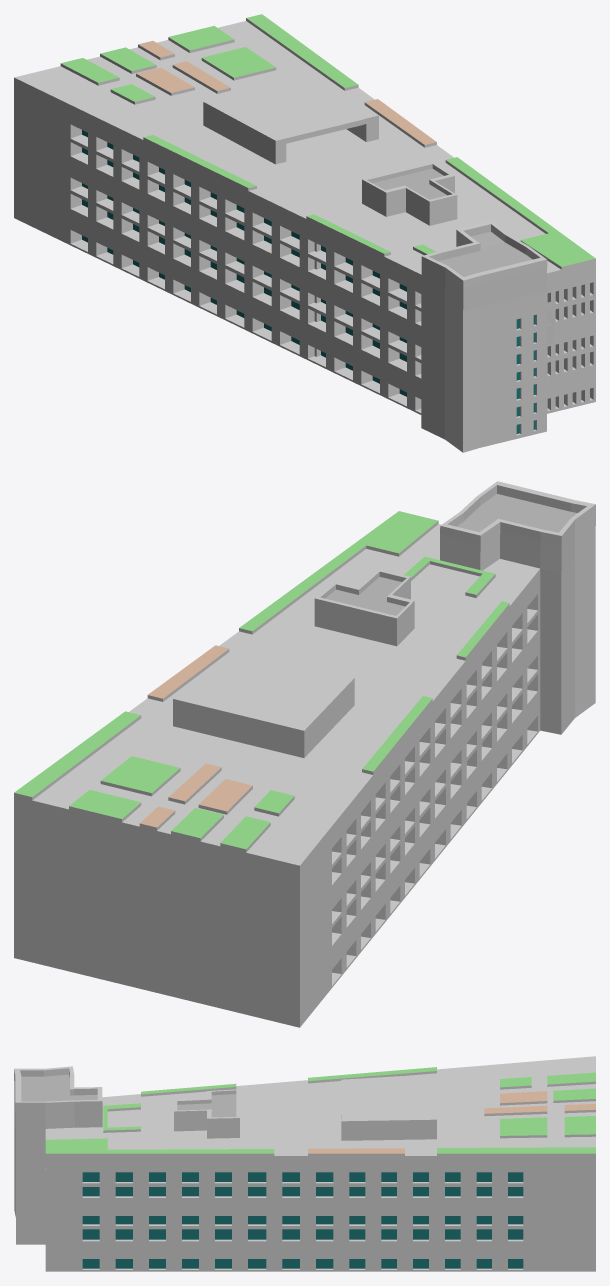
The picture shows the model from 3 angles, top to bottom: view 1: azimuth 30°, elevation 25°; view 2: azimuth 150°, elevation 25°; view 3: azimuth 270°, elevation 25°; orthographic projection. The views are drawn at different scales.
Visible parts, largest first — view 1: 큐브; view 2: 큐브; view 3: 큐브.
Part boxes in pixels (left/top/right/bottom): 큐브: left=14, top=14, right=595, bottom=452; 큐브: left=14, top=481, right=595, bottom=1027; 큐브: left=14, top=1056, right=595, bottom=1271.
Bounding box in the file's own units: 3.58 × 2.38 × 8.82.
